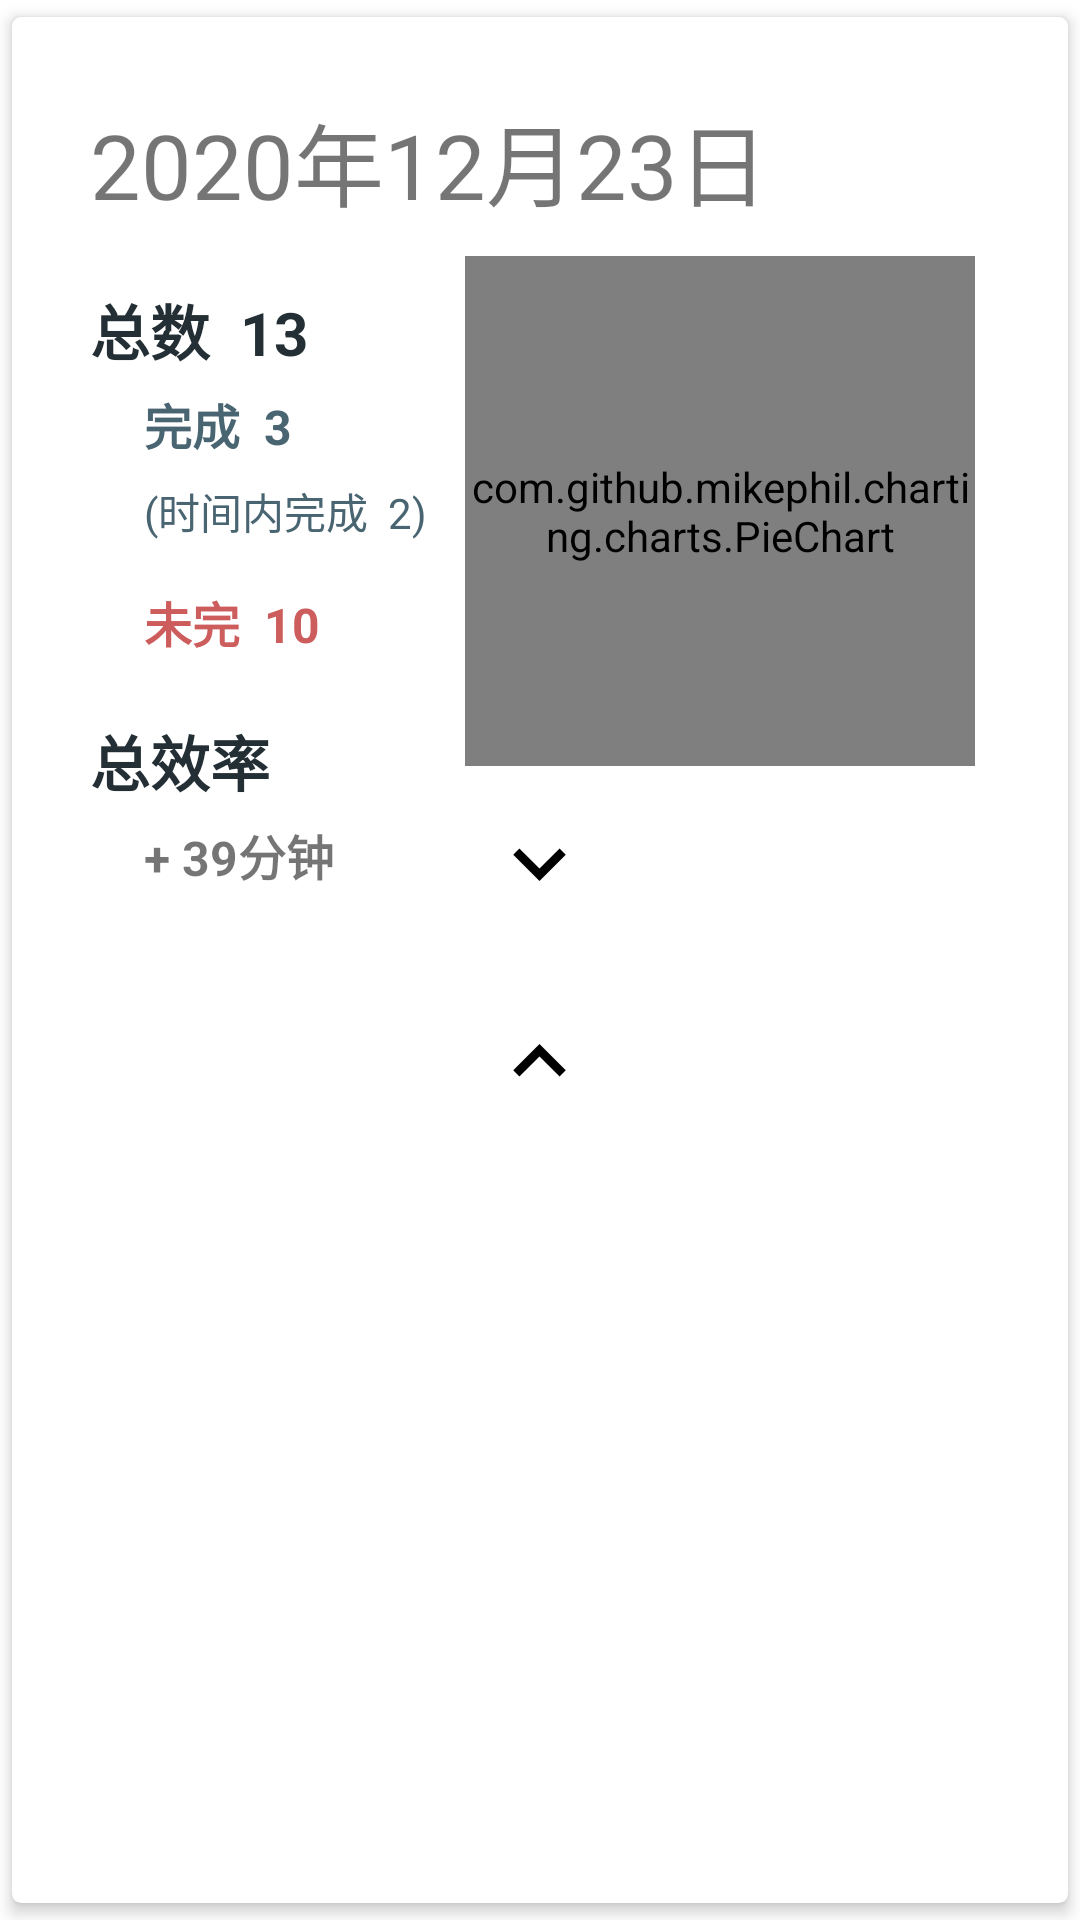

Icons on this 1080 x 1920 Android screen, each with the point to tap as [x,y]:
expand more: [539,864]
keyboard arrow up: [539,1060]
